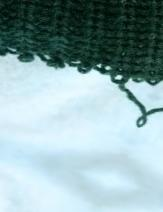snag: (113, 71, 163, 127)
